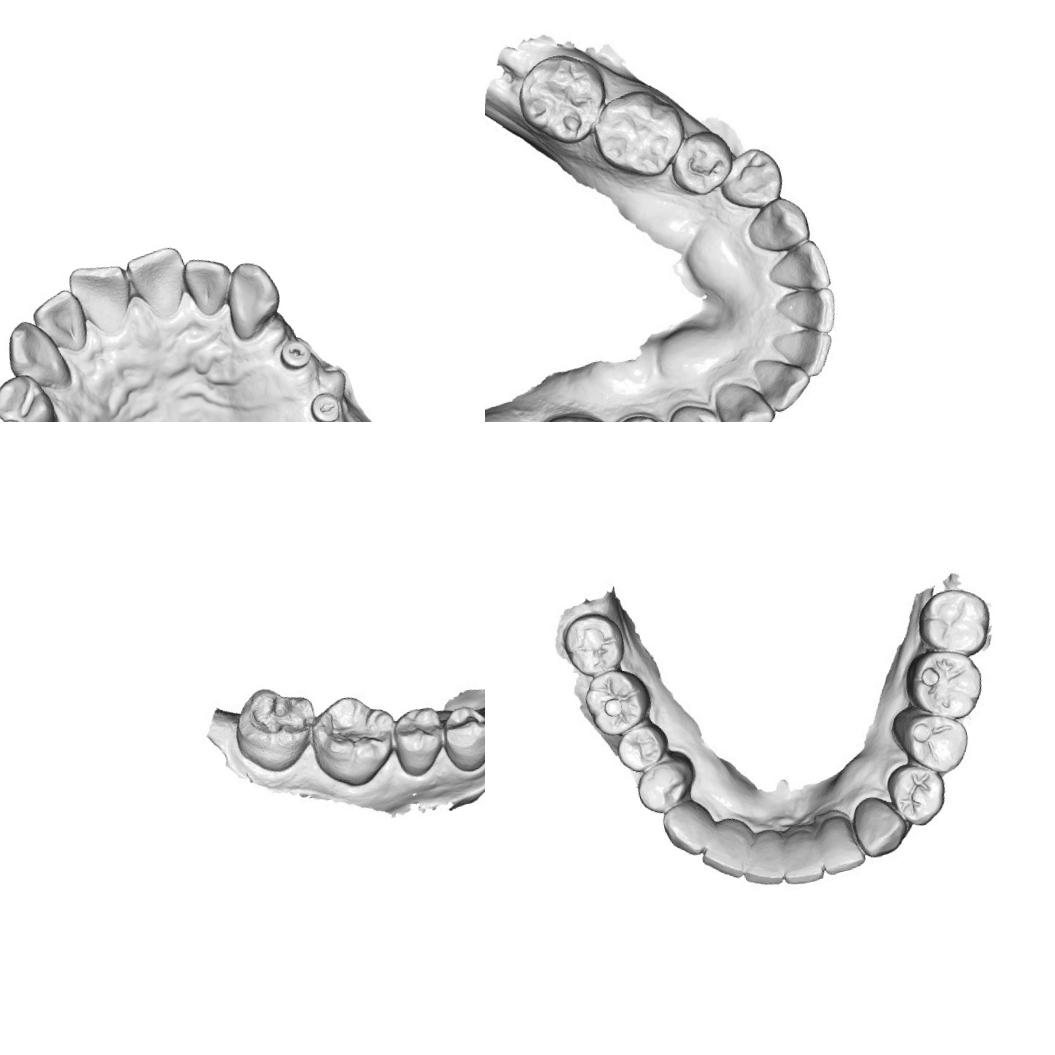canine: (0, 311, 79, 402), (218, 255, 289, 345), (744, 194, 814, 256), (849, 792, 908, 856), (662, 797, 721, 859), (714, 373, 774, 422)
implant_minus: (274, 333, 318, 376), (304, 387, 347, 422)
incisor: (64, 254, 142, 341), (122, 243, 194, 324), (24, 283, 92, 362), (694, 816, 758, 880), (180, 251, 239, 320), (778, 282, 843, 340), (770, 238, 832, 296), (756, 349, 812, 412), (774, 321, 834, 376), (813, 811, 866, 873), (737, 826, 790, 888), (774, 822, 825, 881)
inlay: (244, 684, 314, 750)
molar: (510, 48, 618, 146), (588, 83, 688, 178), (303, 687, 401, 782), (916, 584, 993, 658), (907, 646, 982, 720), (582, 664, 654, 736), (561, 610, 626, 678)
premolar: (382, 698, 454, 781), (712, 142, 787, 213), (668, 127, 734, 199), (904, 706, 972, 774), (888, 759, 950, 826), (632, 756, 695, 816), (438, 700, 485, 780), (0, 367, 61, 422), (613, 720, 672, 773), (660, 395, 730, 422)
